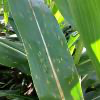Corn Gray leaf spot: (3, 0, 87, 99)
